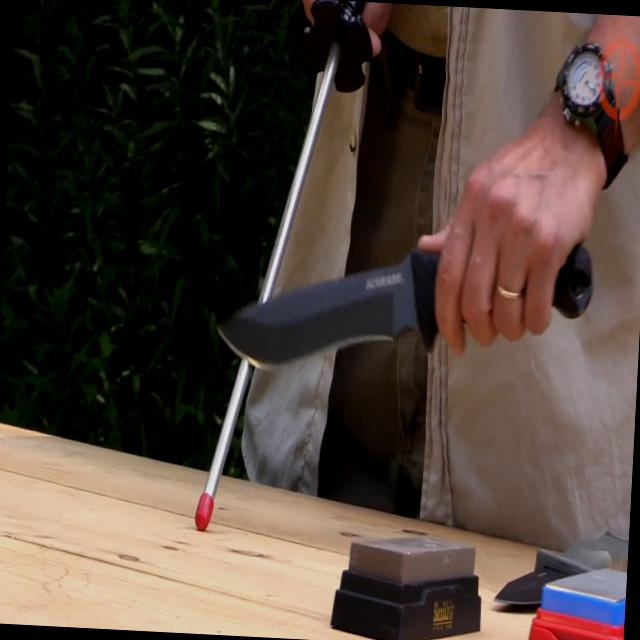knife: (202, 211, 604, 401)
